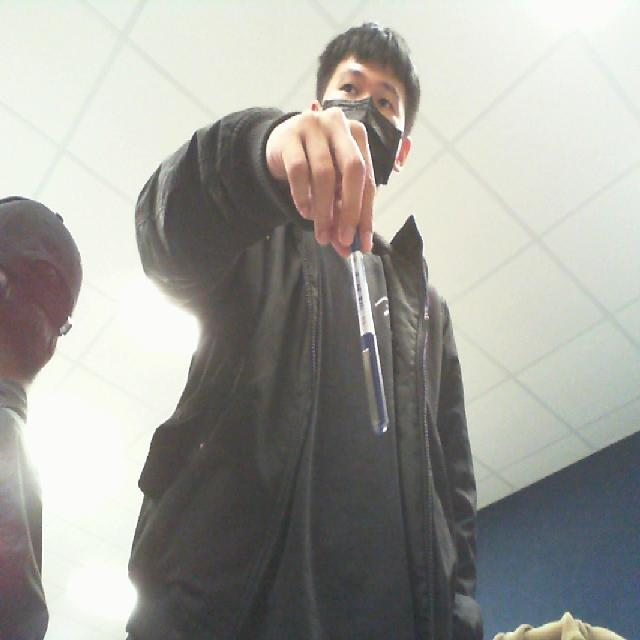Pen: (338, 212, 400, 443)
